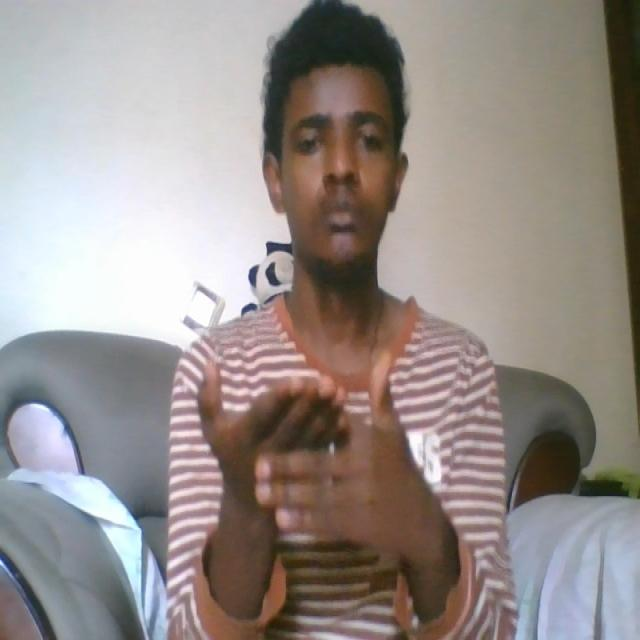sga: (197, 352, 406, 552)
